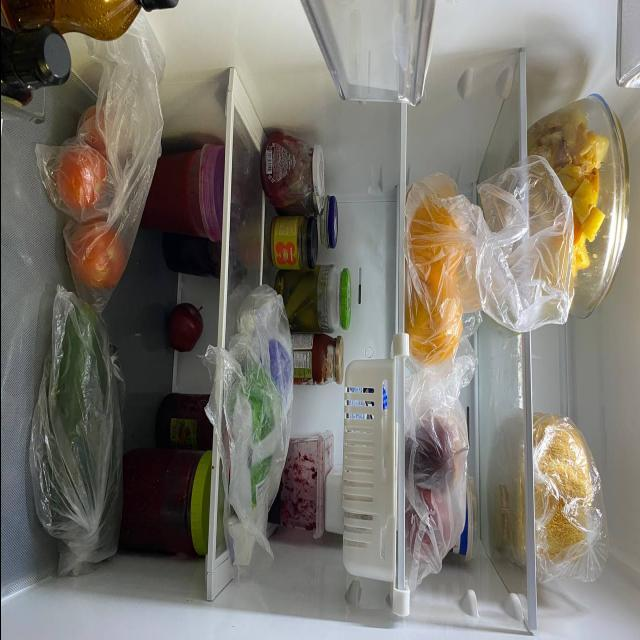Apple: (409, 414, 470, 486), (411, 486, 458, 560), (166, 296, 199, 354)
Cucumber: (48, 296, 97, 554), (83, 334, 126, 566)
Orange: (404, 283, 464, 363), (410, 198, 466, 280)
Tomato: (51, 138, 107, 218), (64, 218, 124, 290), (77, 101, 109, 163)
